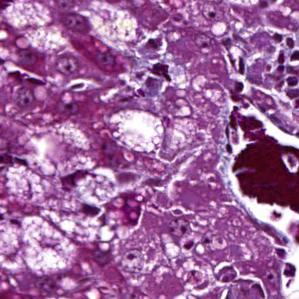ballooning: (20, 213, 80, 277), (80, 3, 142, 55), (108, 107, 169, 159)
